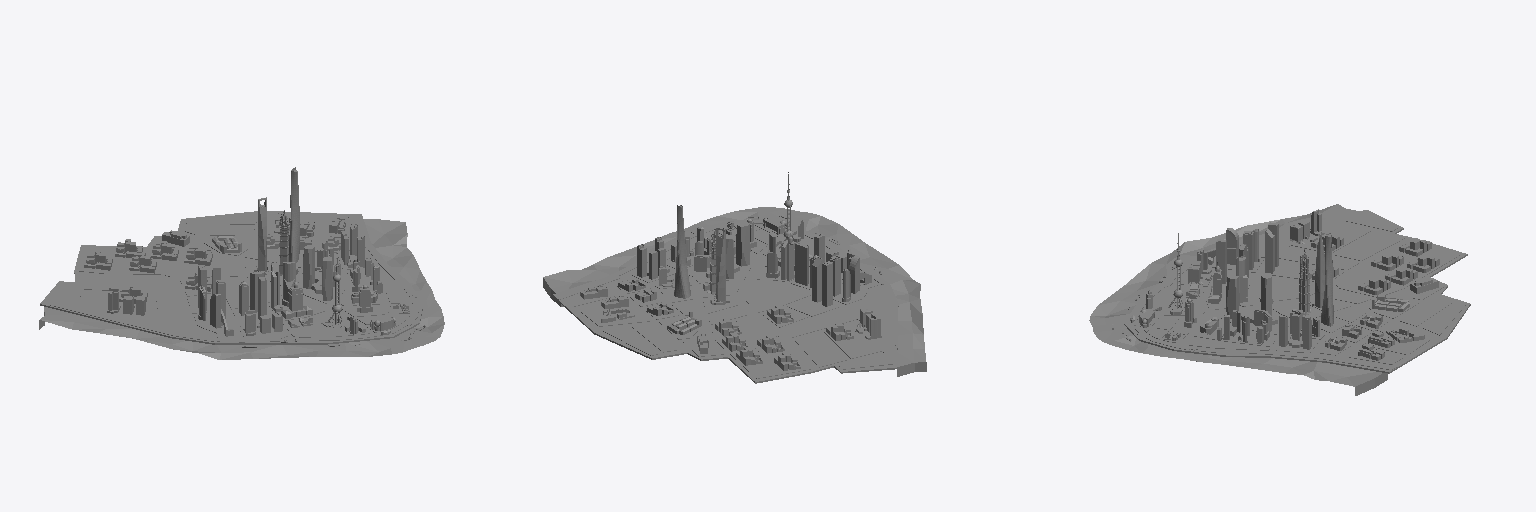
The model's file is SH-Cartoon.obj.
3 renders of one model, left to right at view 1: azimuth 30°, elevation 25°; view 2: azimuth 150°, elevation 25°; view 3: azimuth 270°, elevation 25°, orthographic.
Visible parts, largest first — view 1: River, RiverOnly, Main_1, BuildingAround, Main_2, Main_3; view 2: River, RiverOnly, Main_1, BuildingAround, Main_2, Main_3; view 3: River, RiverOnly, BuildingAround, Main_2, Main_1, Main_3.
Boxes of the visible parts, x1=… form: River: x1=40, y1=211, x2=422, y2=344; RiverOnly: x1=39, y1=219, x2=444, y2=359; Main_1: x1=107, y1=262, x2=312, y2=336; BuildingAround: x1=84, y1=213, x2=345, y2=303; Main_2: x1=303, y1=224, x2=409, y2=334; Main_3: x1=254, y1=167, x2=350, y2=327; River: x1=553, y1=219, x2=898, y2=383; RiverOnly: x1=543, y1=207, x2=926, y2=376; Main_1: x1=766, y1=233, x2=881, y2=339; BuildingAround: x1=580, y1=279, x2=853, y2=370; Main_2: x1=637, y1=218, x2=803, y2=286; Main_3: x1=674, y1=172, x2=793, y2=304; River: x1=1124, y1=210, x2=1470, y2=373; RiverOnly: x1=1089, y1=204, x2=1387, y2=395; BuildingAround: x1=1309, y1=235, x2=1439, y2=360; Main_2: x1=1130, y1=274, x2=1319, y2=349; Main_1: x1=1186, y1=209, x2=1324, y2=303; Main_3: x1=1167, y1=231, x2=1333, y2=326.
Size of the model in its own units: 5.13 by 1.42 by 4.51.